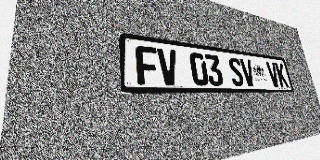0: (189, 52, 209, 86)
3: (204, 54, 224, 86)
F: (135, 45, 160, 85)
K: (275, 63, 289, 87)
S: (227, 57, 245, 86)
V: (157, 48, 180, 85), (239, 58, 256, 87), (266, 62, 281, 87)
